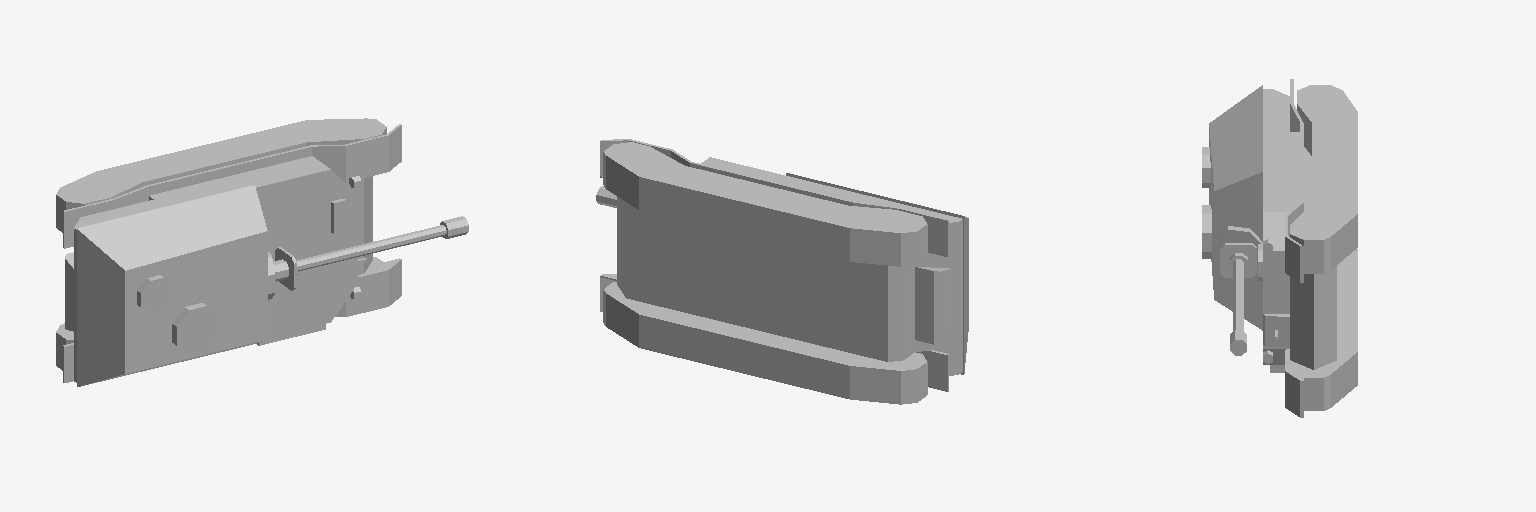
File: grm_PzKpfw_P_JagdPanzer Elephant.obj
The picture shows the model from 3 angles: view 1: azimuth 30°, elevation 25°; view 2: azimuth 150°, elevation 25°; view 3: azimuth 270°, elevation 25°; orthographic projection.
Visible parts, largest first — view 1: NoName; view 2: NoName; view 3: NoName.
Part boxes in pixels (bbox=[...]): NoName: bbox=[56, 118, 468, 386]; NoName: bbox=[596, 139, 968, 404]; NoName: bbox=[1202, 79, 1357, 417].
Size of the model in its own units: 257 by 112 by 92.